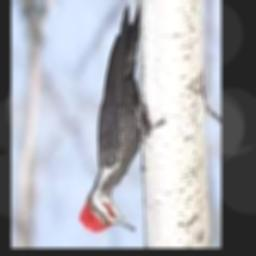Woodpecker: (79, 1, 148, 232)
